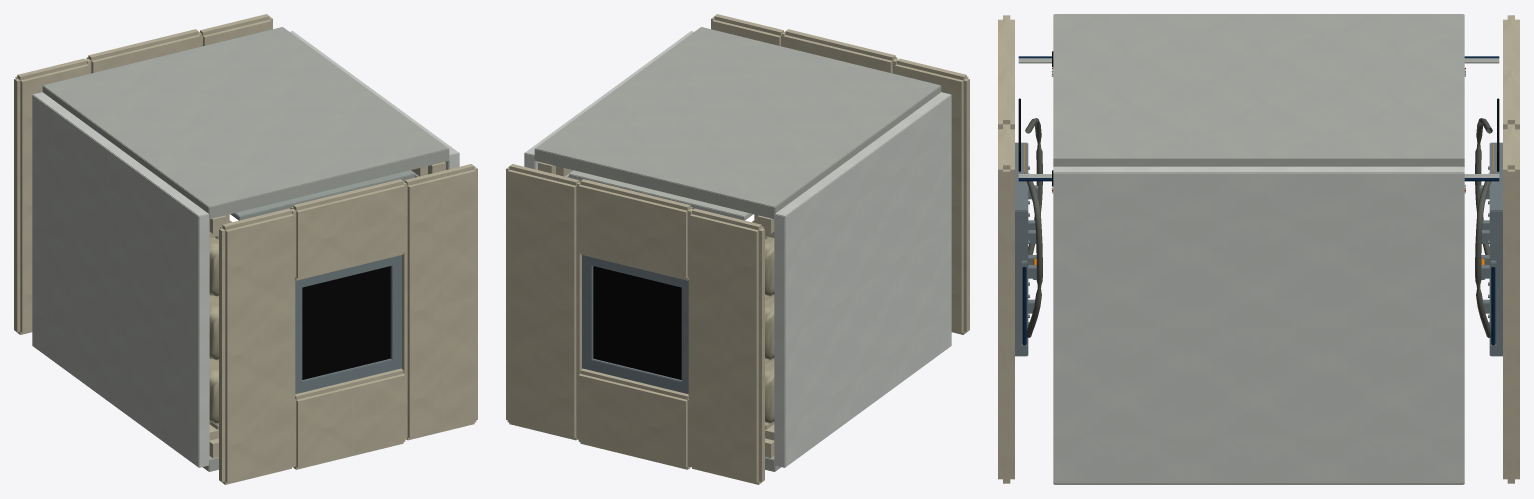
Rendered from kibo_elm.glb.
The picture shows the model from 3 angles, left to right: view 1: azimuth 30°, elevation 25°; view 2: azimuth 150°, elevation 25°; view 3: azimuth 270°, elevation 25°; orthographic projection. The views are drawn at different scales.
Parts seen in each view (by area): view 1: kibo_elm_detailed; view 2: kibo_elm_detailed; view 3: kibo_elm_detailed.
Boxes of the visible parts, box(x1,y1,x2,y2) form: kibo_elm_detailed: box(14, 14, 477, 484); kibo_elm_detailed: box(506, 14, 969, 484); kibo_elm_detailed: box(998, 14, 1519, 484).
Size of the model in its own units: 3.09 by 3 by 4.34.
17 materials, 14 textured.
